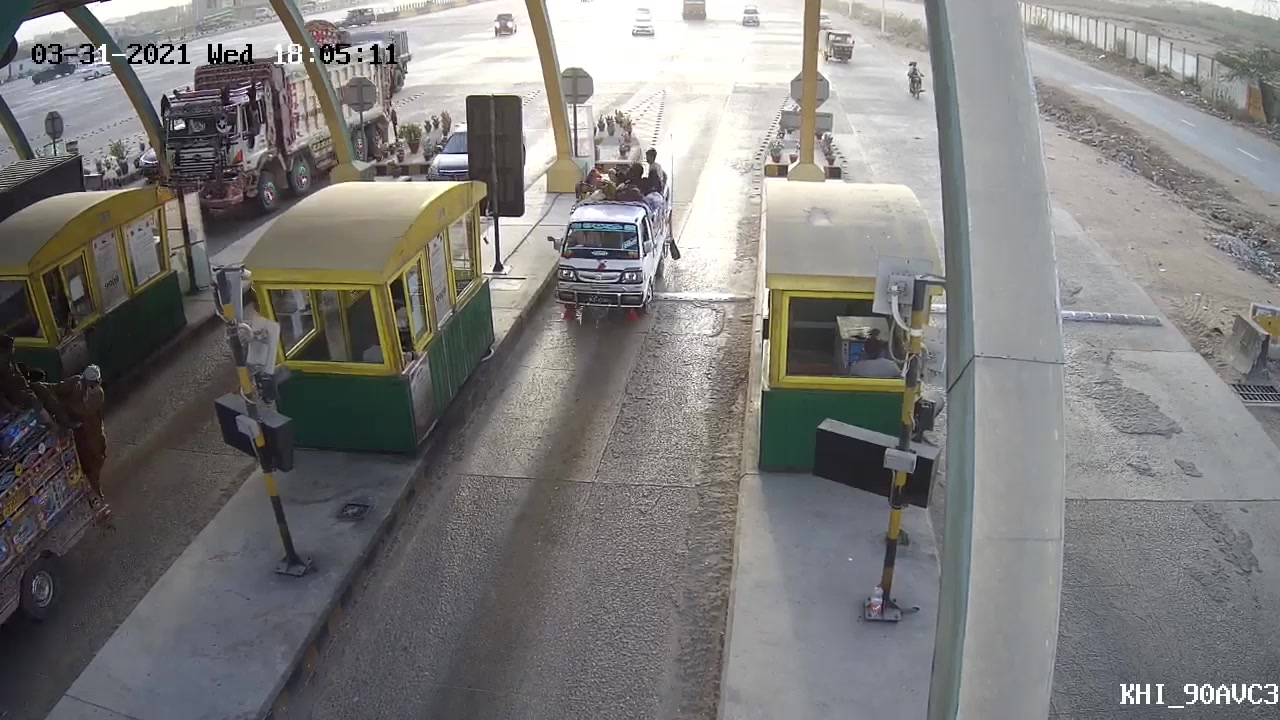F1: (541, 151, 698, 325)
